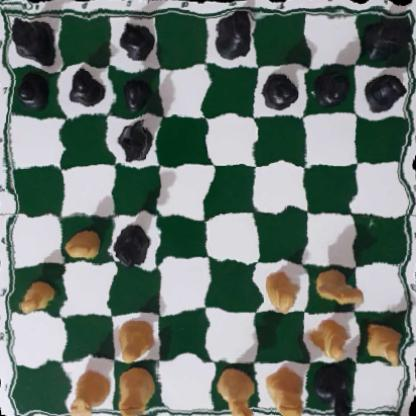black-bishop: (311, 364, 355, 416), (114, 21, 157, 62)
black-king: (209, 16, 254, 61)
black-knight: (119, 119, 159, 162)
black-pawn: (361, 71, 404, 111), (260, 68, 296, 107), (13, 72, 51, 108), (68, 69, 101, 107), (315, 68, 348, 105), (118, 74, 154, 106)
black-queen: (115, 224, 151, 272)
black-rook: (4, 12, 58, 65), (364, 11, 412, 59)
white-bishop: (262, 369, 308, 416), (117, 366, 157, 416)
white-king: (215, 366, 257, 416)
white-knight: (312, 267, 363, 308)
white-pawn: (306, 318, 348, 360), (363, 318, 403, 362), (16, 276, 55, 316), (116, 318, 154, 358), (261, 271, 296, 311), (64, 229, 104, 262)
white-rook: (63, 366, 108, 416)
